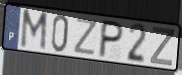0: (49, 13, 70, 54)
2: (126, 22, 147, 66)
M: (19, 8, 50, 53)
P: (96, 18, 126, 59)
Z: (149, 25, 176, 68), (72, 17, 99, 58)
